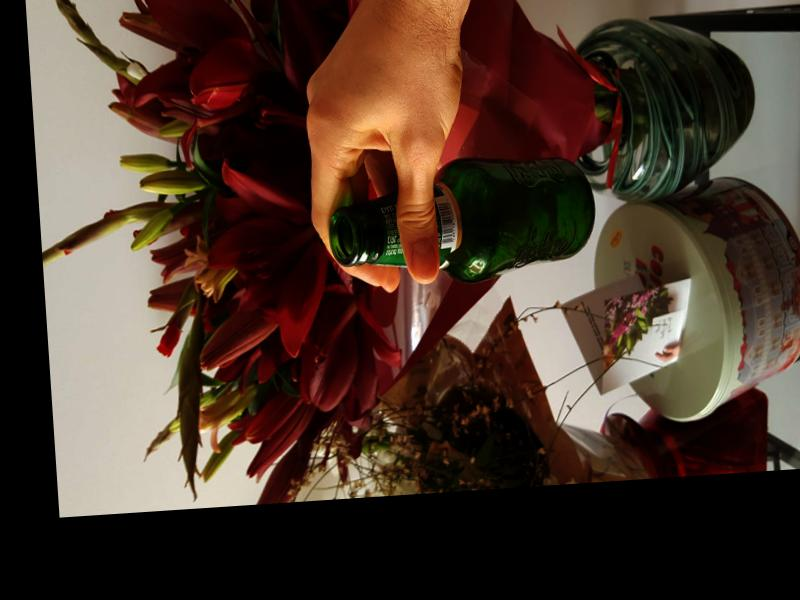Beer: (327, 154, 599, 291)
